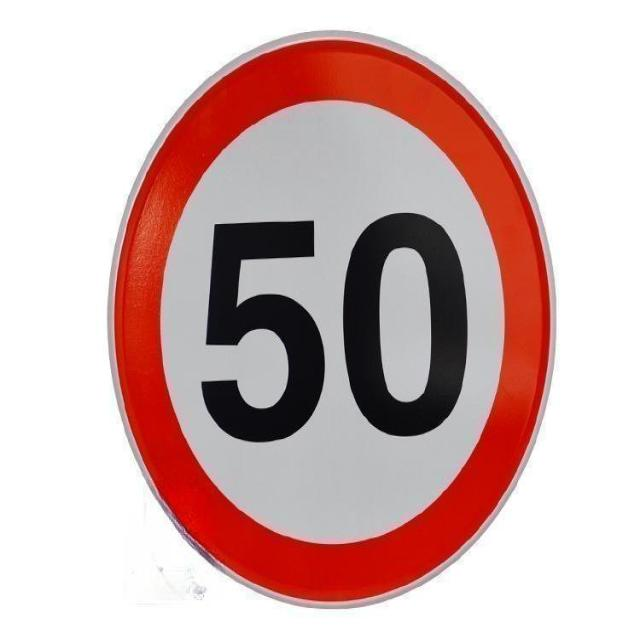speed limit 50: (102, 29, 560, 611)
